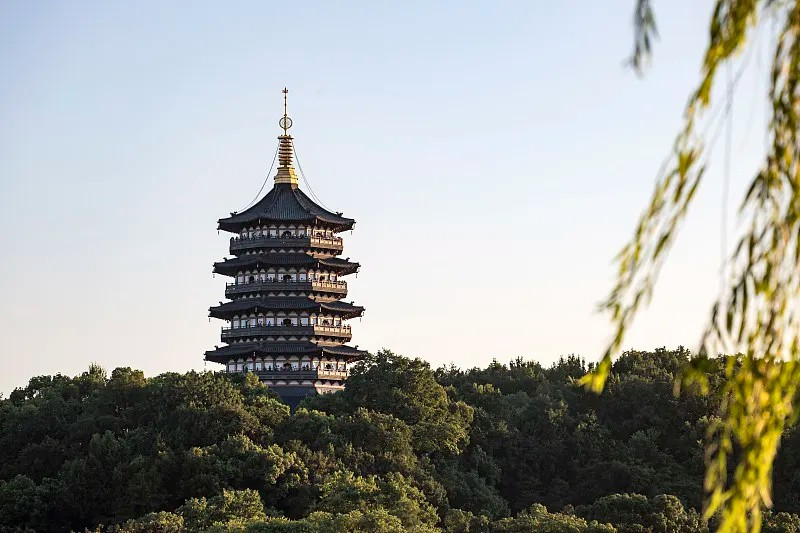Leifeng: (203, 85, 372, 402)
